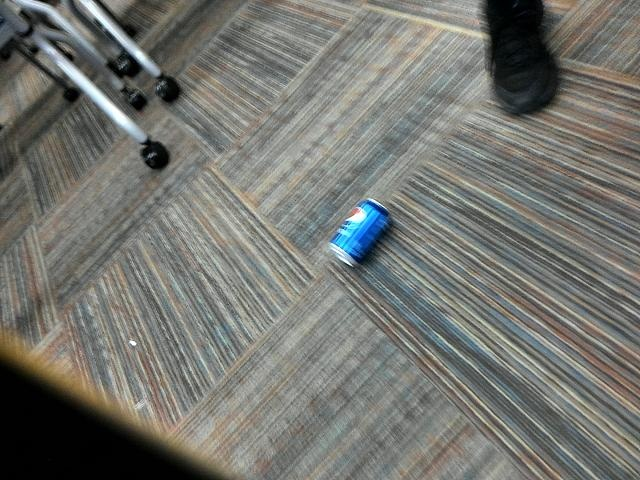can: (326, 192, 401, 272)
